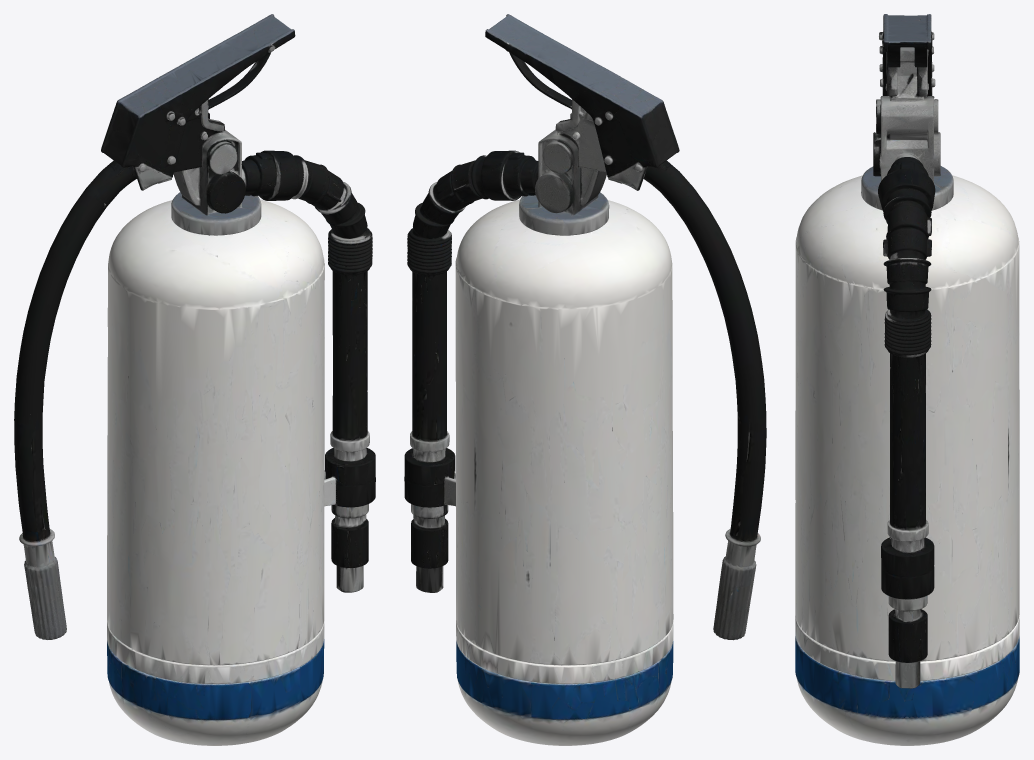
File: mist_ext.glb
3 renders of one model, left to right at view 1: azimuth 30°, elevation 25°; view 2: azimuth 150°, elevation 25°; view 3: azimuth 270°, elevation 25°, orthographic. The views are drawn at different scales.
Visible parts, largest first — view 1: mist_ext; view 2: mist_ext; view 3: mist_ext.
Boxes of the visible parts, x1,y1,x2,y2 form: mist_ext: (14,14,375,745); mist_ext: (404,14,766,745); mist_ext: (795,14,1019,745).
Bounding box in the file's own units: 0.2765 × 0.5 × 0.1447.
Materials: 1 (1 with a texture image).
